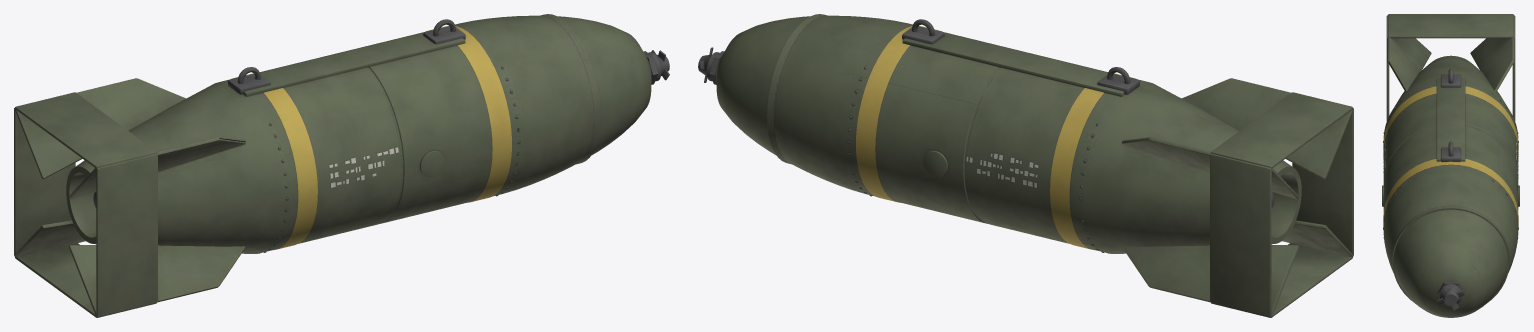
Rendered from bombs_4.glb.
The picture shows the model from 3 angles, left to right: view 1: azimuth 30°, elevation 25°; view 2: azimuth 150°, elevation 25°; view 3: azimuth 270°, elevation 25°; orthographic projection. The views are drawn at different scales.
Visible parts, largest first — view 1: bombs_4; view 2: bombs_4; view 3: bombs_4.
Boxes of the visible parts, x1=… form: bombs_4: x1=14, y1=14, x2=669, y2=317; bombs_4: x1=698, y1=14, x2=1353, y2=317; bombs_4: x1=1382, y1=14, x2=1519, y2=317.
Size of the model in its own units: 0.8 by 0.2235 by 0.204.
Materials: 5 (5 with a texture image).
